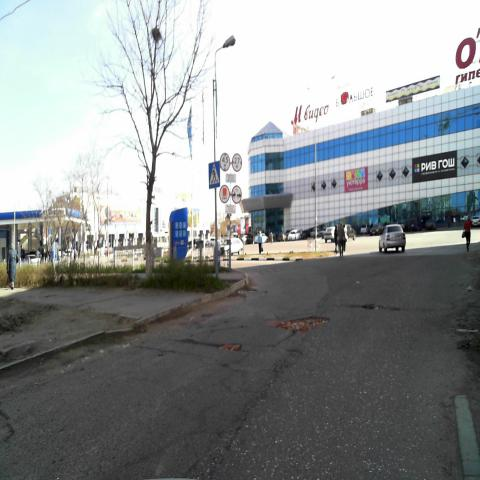3_14: (232, 154, 242, 171)
3_16: (232, 184, 242, 204)
3_32: (219, 183, 229, 203)
